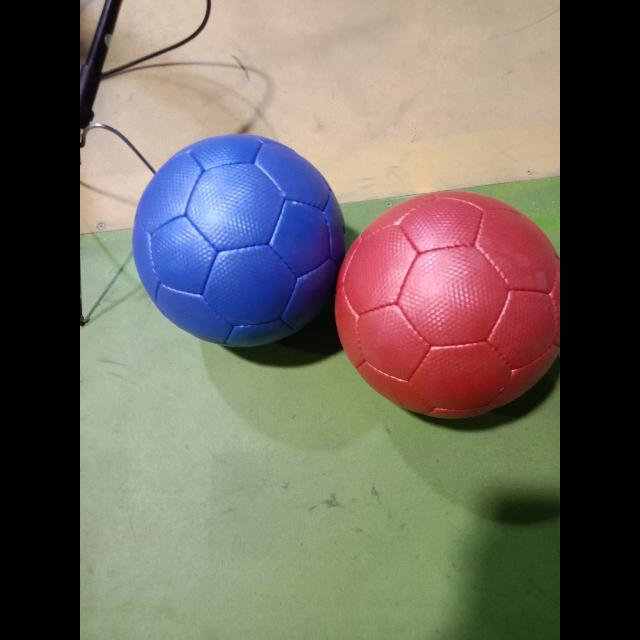B: (132, 134, 346, 350)
R: (334, 192, 558, 420)
